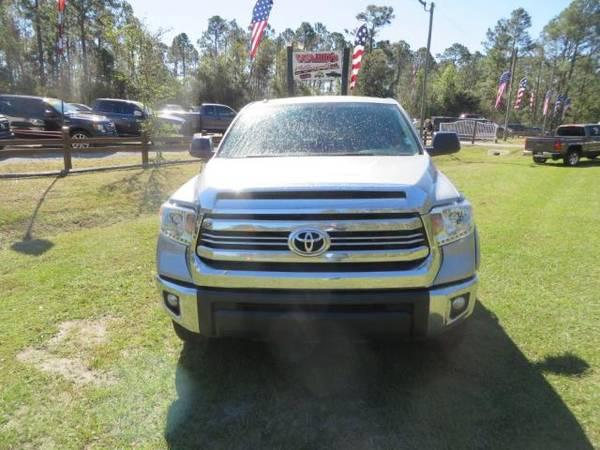Front_Bumper: (154, 229, 477, 343)
Front_Windshield: (213, 101, 423, 158)
Grille: (184, 184, 443, 289)
Hood: (170, 155, 462, 208)
Left_Headlight: (427, 201, 475, 246)
Left_Mirror: (424, 132, 461, 154)
Right_Headlight: (161, 202, 198, 244)
Right_Mirror: (187, 134, 215, 161)
